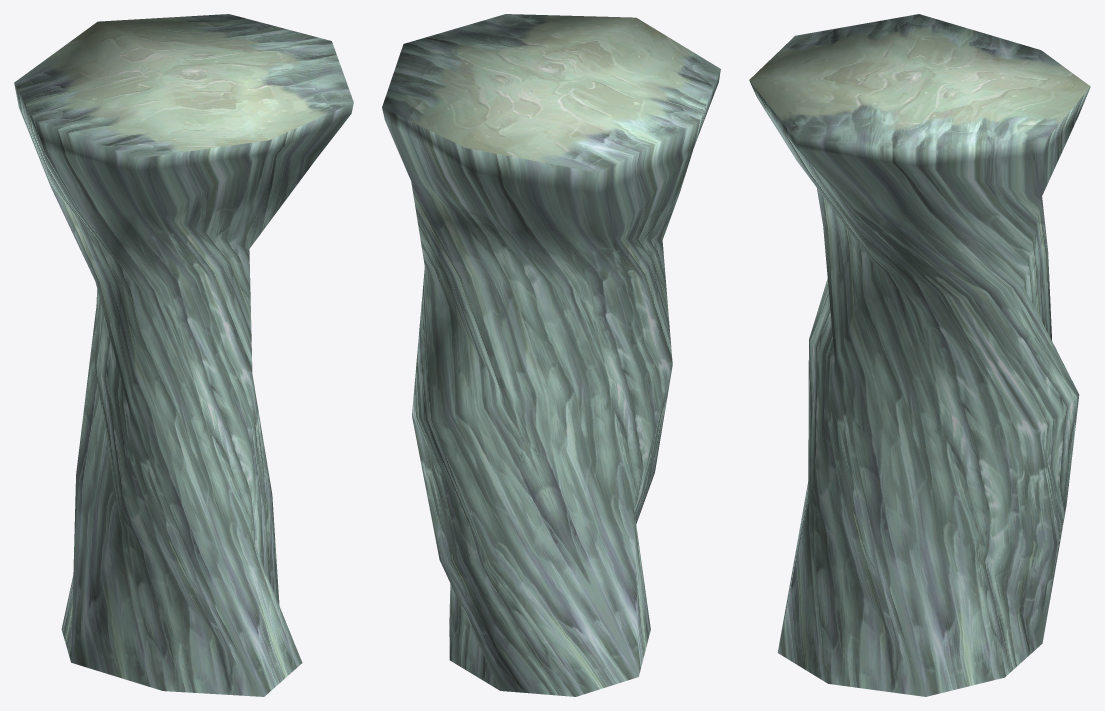
File: TROLLHOLE02_WATER PLATFORM G.fbx
The picture shows the model from 3 angles, left to right: view 1: azimuth 30°, elevation 25°; view 2: azimuth 150°, elevation 25°; view 3: azimuth 270°, elevation 25°; orthographic projection.
Visible parts, largest first — view 1: TROLLHOLE02_WATER PLATFORM G; view 2: TROLLHOLE02_WATER PLATFORM G; view 3: TROLLHOLE02_WATER PLATFORM G.
Boxes of the visible parts, x1,y1,x2,y2 form: TROLLHOLE02_WATER PLATFORM G: (14, 14, 353, 696); TROLLHOLE02_WATER PLATFORM G: (382, 14, 720, 696); TROLLHOLE02_WATER PLATFORM G: (749, 14, 1090, 696).
Size of the model in its own units: 23566 by 43580 by 23453.
Materials: 2 (2 with a texture image).
